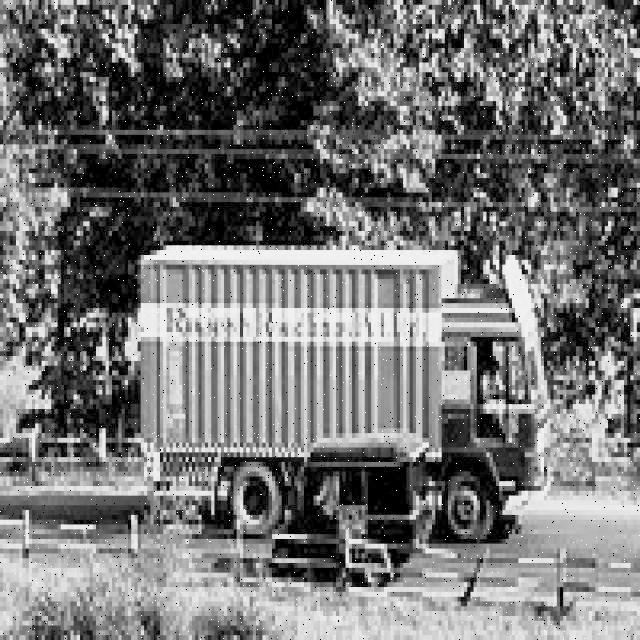HCV: (124, 212, 576, 570)
